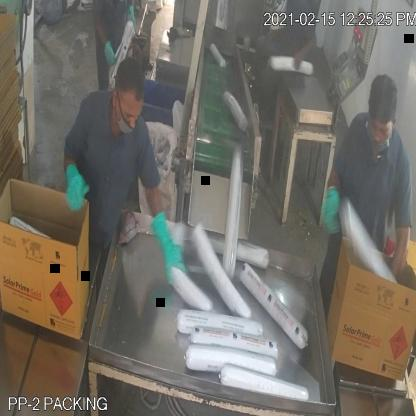glove: (146, 202, 192, 289), (51, 156, 93, 216), (321, 176, 343, 249)
no_glove: (387, 212, 416, 287), (288, 35, 324, 69)
